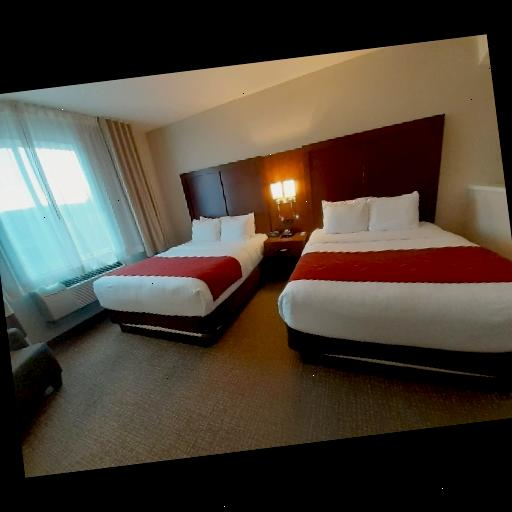clean_bed: (288, 114, 512, 392), (96, 154, 270, 348)
clean_floor: (21, 276, 512, 477)
lamp: (266, 174, 303, 240)
organised_pillow: (321, 188, 423, 232), (182, 213, 255, 241)
